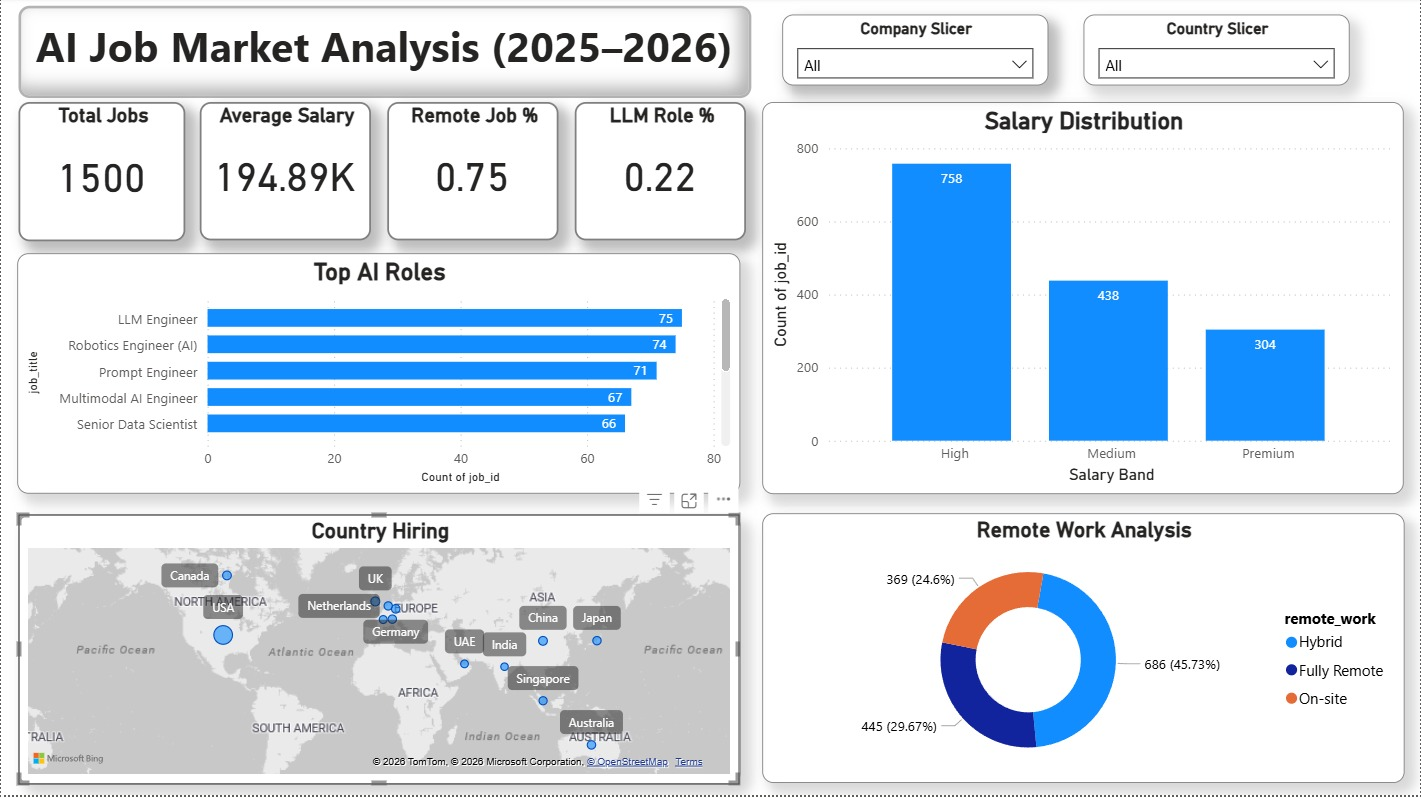

Layout of this report page (visuals, bound fields, positions):
{"tool":"powerbi","page":{"name":"Job Market","canvas":[1280,720],"ordinal":0},"visuals":[{"type":"textbox","box":[15.3,8.3,660.9,83.5],"z":0},{"type":"card","title":"Total Jobs","fields":{"Values":["Measures (2).Total Jobs"]},"box":[15.3,94.6,150.3,125.2],"z":1000},{"type":"card","title":"Average Salary","fields":{"Values":["Measures (2).Average Salary"]},"box":[179.7,94.6,154.6,124.7],"z":2000},{"type":"card","title":"Remote Job %","fields":{"Values":["Measures (2).Remote Job %"]},"box":[348.4,94.6,154.6,124.7],"z":3000},{"type":"card","title":"LLM Role %","fields":{"Values":["Measures (2).LLM Role %"]},"box":[517.2,94.6,154.6,124.7],"z":4000},{"type":"clusteredBarChart","title":"Top AI Roles","fields":{"Y":["CountNonNull(AI JOBS.job_id)"],"Category":["AI JOBS.job_title"]},"box":[15,230.6,652.1,216.9],"z":5000},{"type":"clusteredColumnChart","title":"Salary Distribution","fields":{"Category":["AI JOBS.Salary Band"],"Y":["CountNonNull(AI JOBS.job_id)"]},"box":[685.9,94.6,578.8,353.4],"z":6000},{"type":"map","title":"Country Hiring","fields":{"Category":["AI JOBS.country"],"Size":["CountNonNull(AI JOBS.job_id)"]},"box":[15.3,466.1,651.1,243.5],"z":7000},{"type":"donutChart","title":"Remote Work Analysis","fields":{"Category":["AI JOBS.remote_work"],"Y":["CountNonNull(AI JOBS.job_id)"]},"box":[686,466,579,243],"z":8000},{"type":"slicer","title":"Country Slicer","fields":{"Values":["AI JOBS.country"]},"box":[976,16,240,64],"z":9000},{"type":"slicer","title":"Company Slicer","fields":{"Values":["AI JOBS.company_size"]},"box":[704,16,240,64],"z":10000}]}

Visuals, with their boxes in screenshot pixels (x1, y1, x2, y2), scaled from the page's 1280x720 canvas onto the 1421x798 screenshot:
textbox: locate(17, 9, 751, 102)
"Total Jobs" card: locate(17, 105, 184, 244)
"Average Salary" card: locate(199, 105, 371, 243)
"Remote Job %" card: locate(387, 105, 558, 243)
"LLM Role %" card: locate(574, 105, 746, 243)
"Top AI Roles" clusteredBarChart: locate(17, 256, 741, 496)
"Salary Distribution" clusteredColumnChart: locate(761, 105, 1404, 497)
"Country Hiring" map: locate(17, 517, 740, 786)
"Remote Work Analysis" donutChart: locate(762, 516, 1404, 786)
"Country Slicer" slicer: locate(1084, 18, 1350, 89)
"Company Slicer" slicer: locate(782, 18, 1048, 89)
